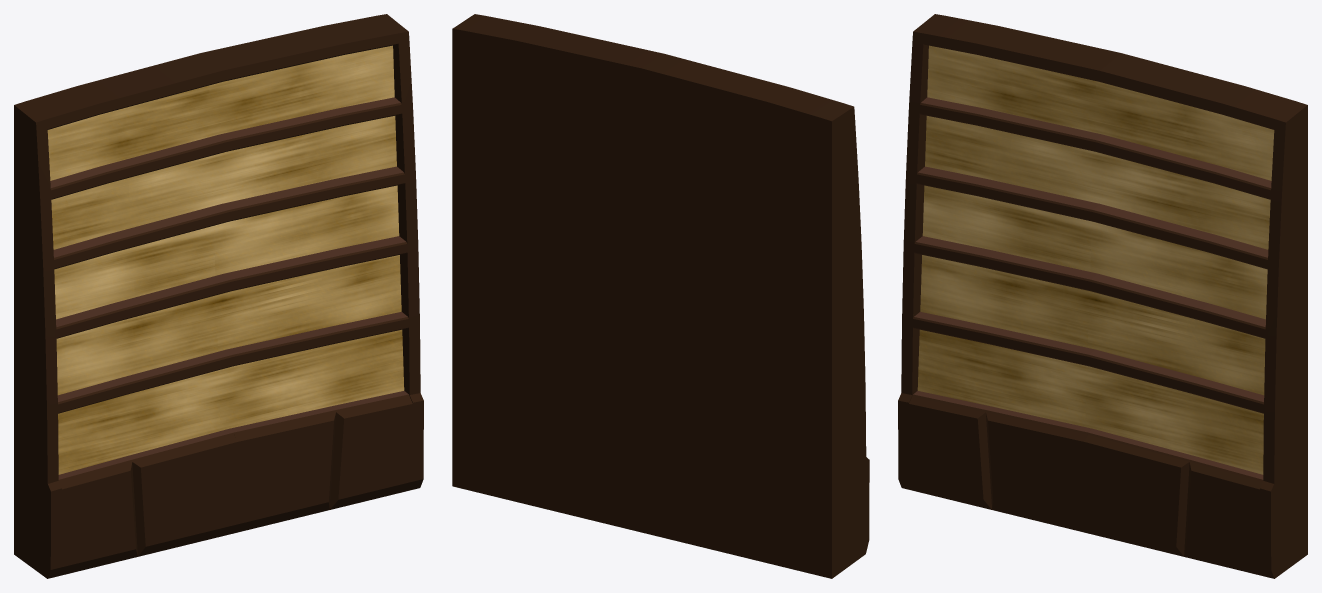
Rendered from LibraryBookshelf.fbx.
3 views of the same model, side by side, from view 1: azimuth 30°, elevation 25°; view 2: azimuth 150°, elevation 25°; view 3: azimuth 330°, elevation 25° (orthographic).
Parts seen in each view (by area): view 1: BookShelf:pCube3; view 2: BookShelf:pCube3; view 3: BookShelf:pCube3.
Boxes of the visible parts, bbox=[...] form: BookShelf:pCube3: bbox=[14, 14, 423, 578]; BookShelf:pCube3: bbox=[452, 14, 869, 578]; BookShelf:pCube3: bbox=[898, 14, 1307, 578].
Size of the model in its own units: 340 by 397 by 58.31.
